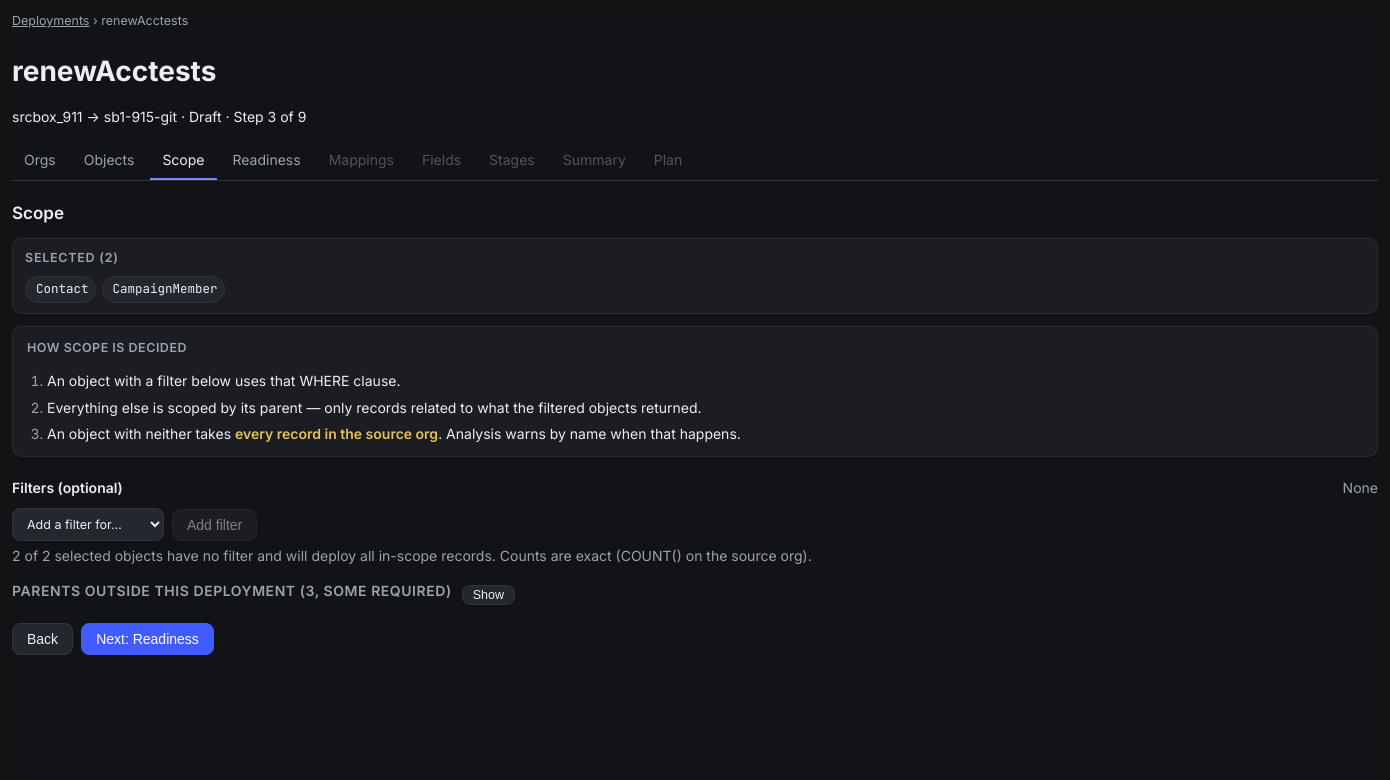
Test case: StepScope — S57 B2: parents outside this deployment › "Leave it out" dismisses the card for this visit
Step 1. Click the button "Show" → (488, 595), box [462,585,515,605]
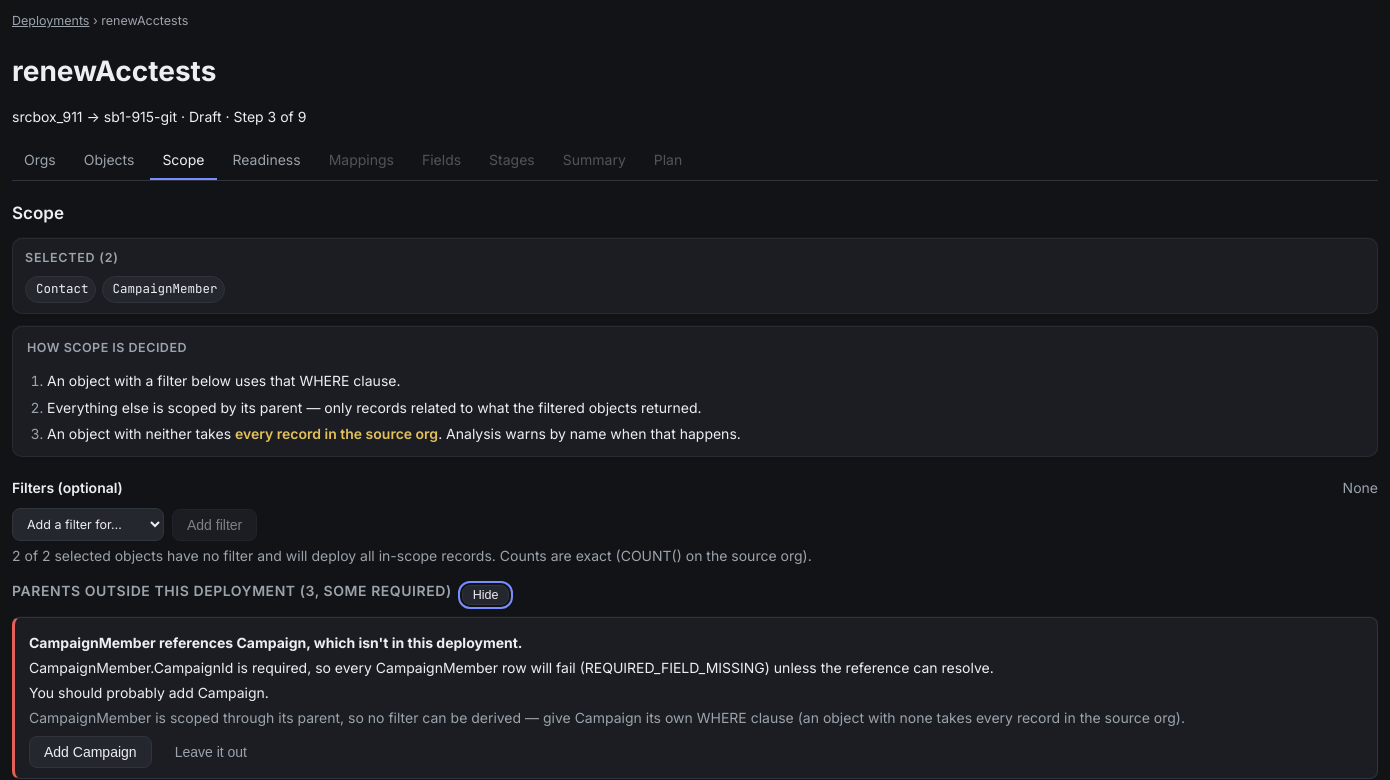
Step 2. Click the button "Leave it out" → (211, 752), box [160,736,262,768]
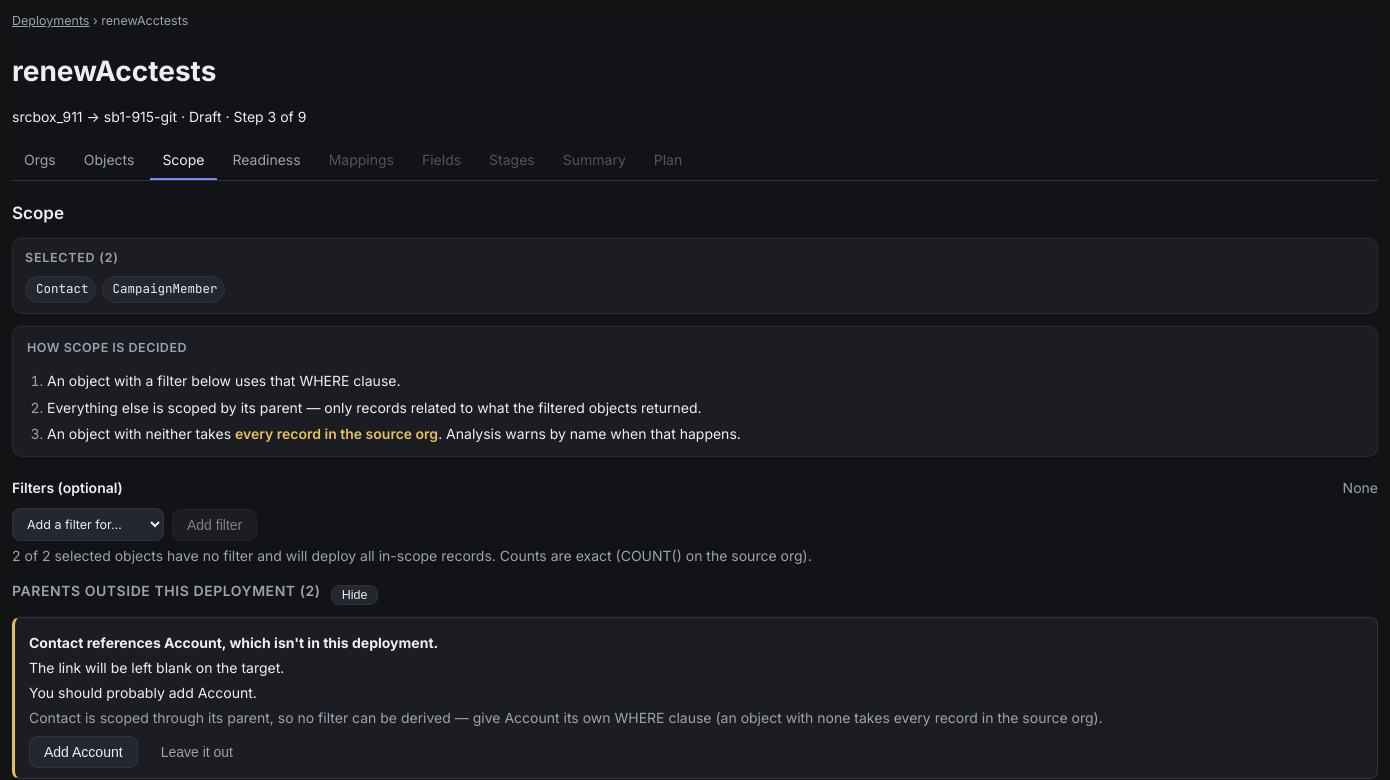
Check: the element with test id "advisor-Campaign" is gone
